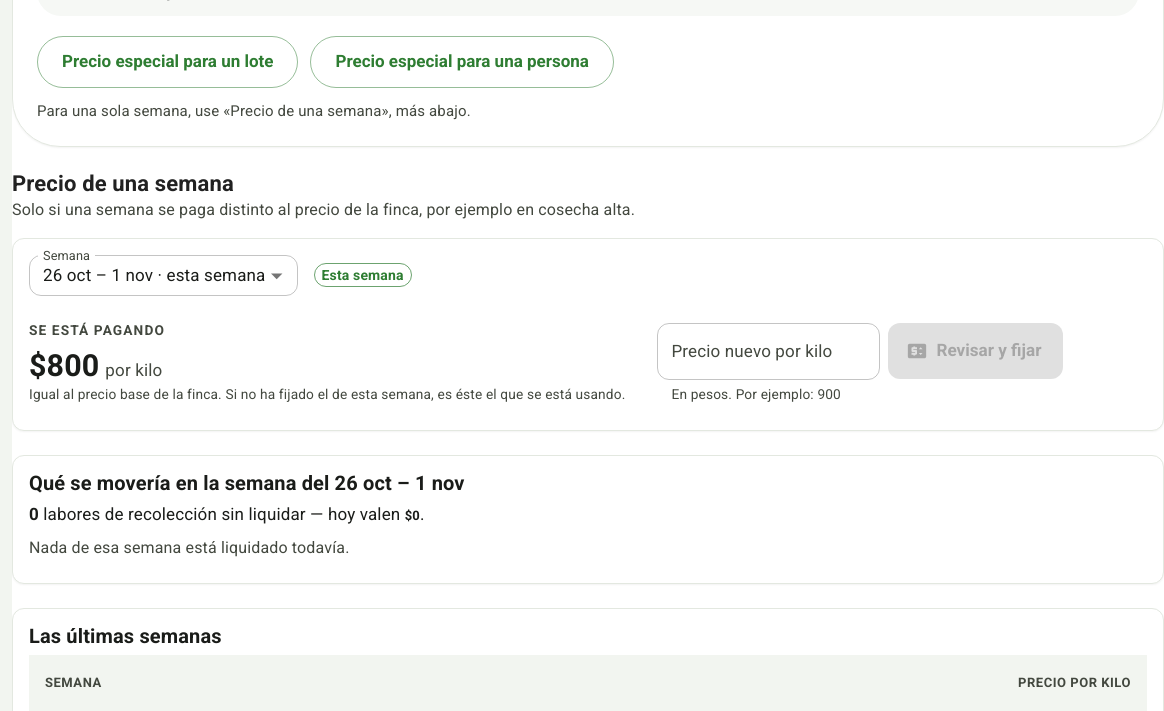
Test: another week › is picked from the list
(page scrolled)
Type "900" into the field labelled "Precio nuevo por kilo" at (769, 351), box [657,323,880,380]
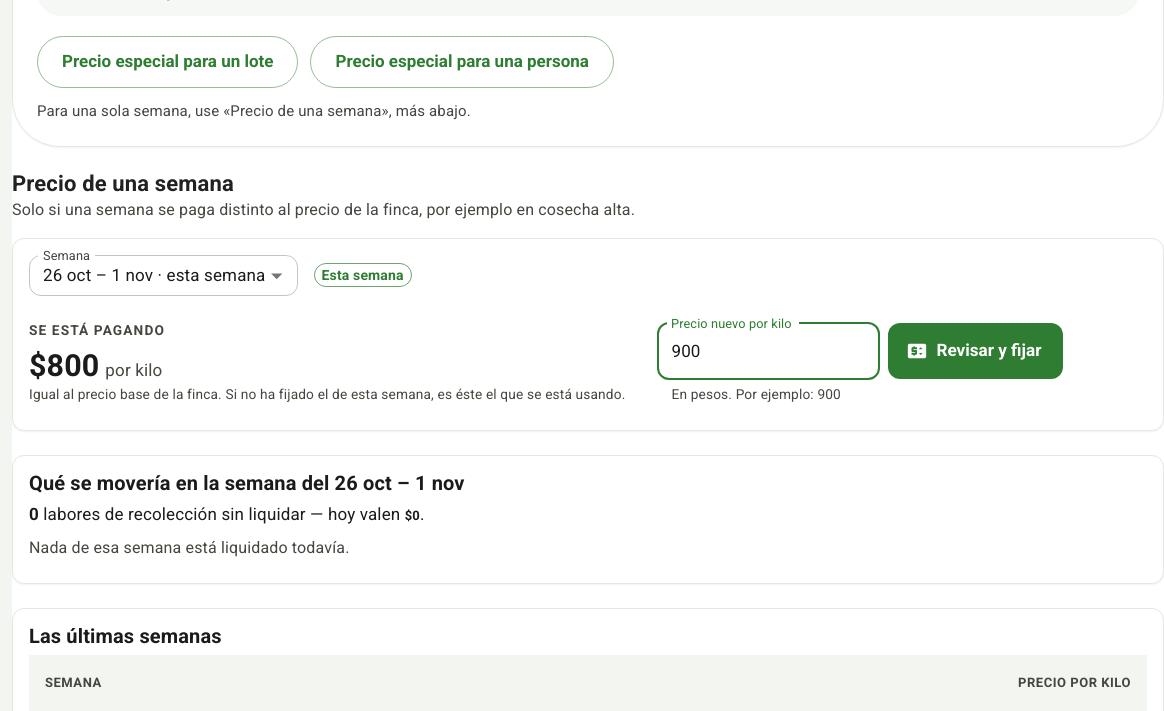
Click the dropdown labelled "semana" at (154, 275), box [43,265,266,285]
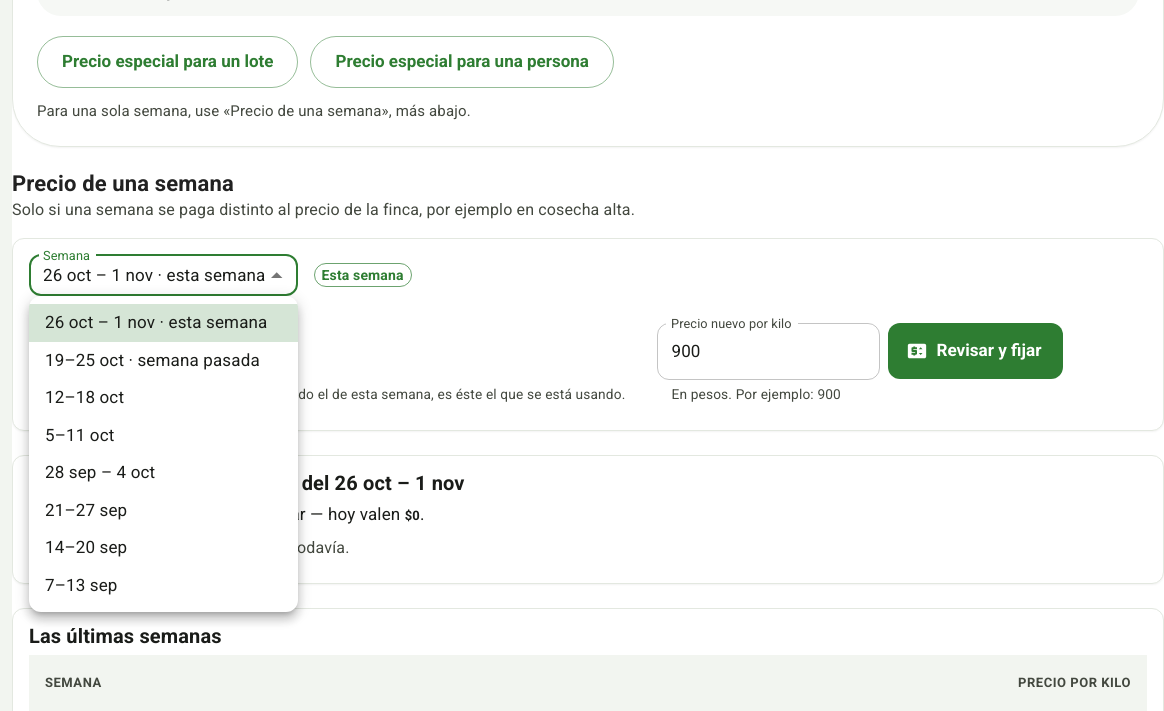
Click the option "7–13 sep" at (81, 584), box [45,574,118,594]
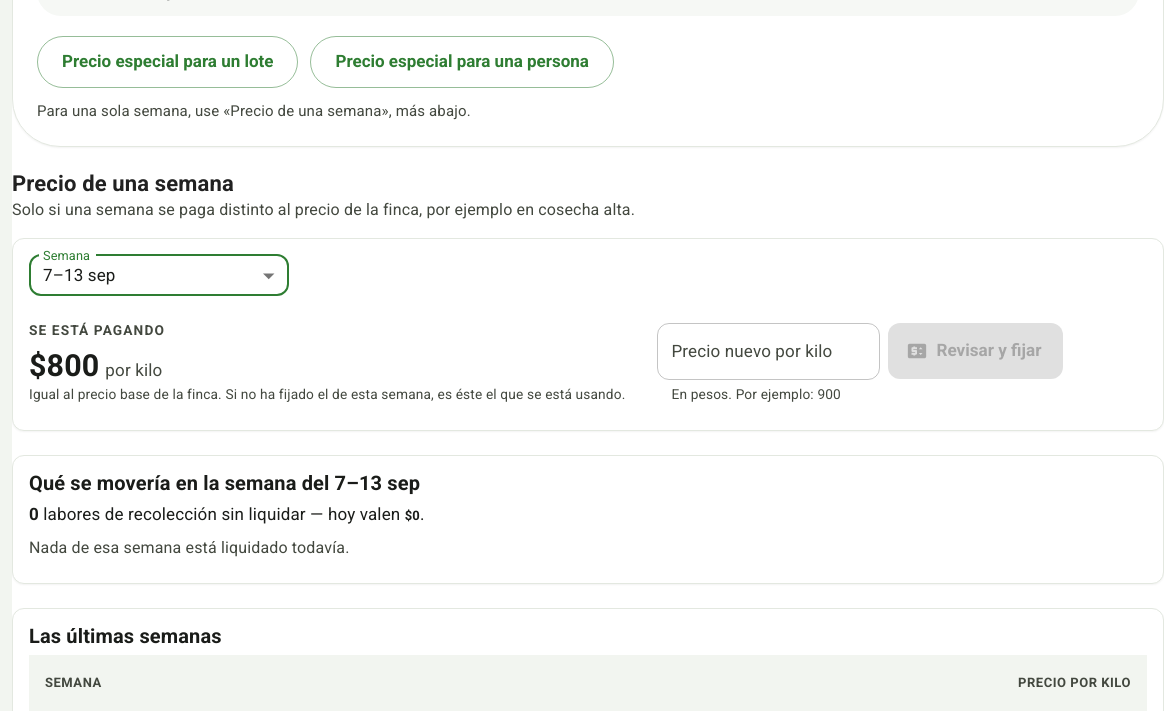
Now the list is gone
Now the field labelled "Precio nuevo por kilo" is empty, box [657,323,880,380]
